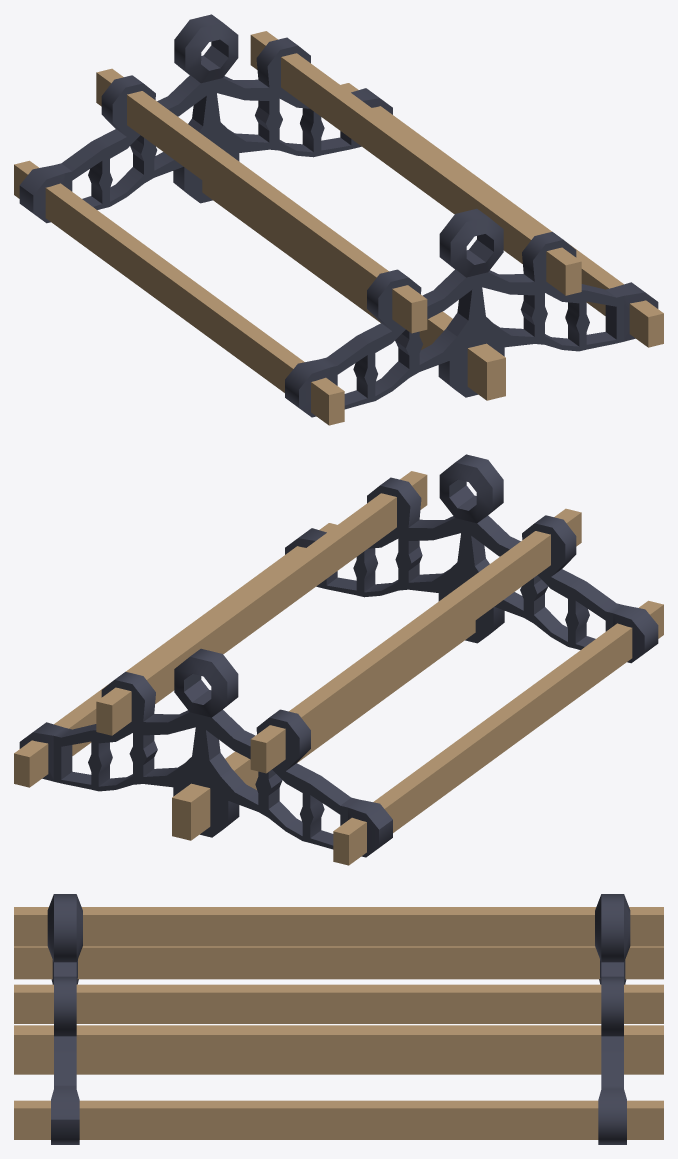
The model's file is Hanger.fbx.
3 views of the same model, one above another, from view 1: azimuth 30°, elevation 25°; view 2: azimuth 150°, elevation 25°; view 3: azimuth 270°, elevation 25° (orthographic). The views are drawn at different scales.
Visible parts, largest first — view 1: polySurface4; view 2: polySurface4; view 3: polySurface4.
Boxes of the visible parts, box(x1,y1,x2,y2) form: polySurface4: box(14, 14, 663, 425); polySurface4: box(14, 454, 663, 865); polySurface4: box(14, 894, 663, 1144).
Size of the model in its own units: 18.78 by 8.76 by 28.49.
